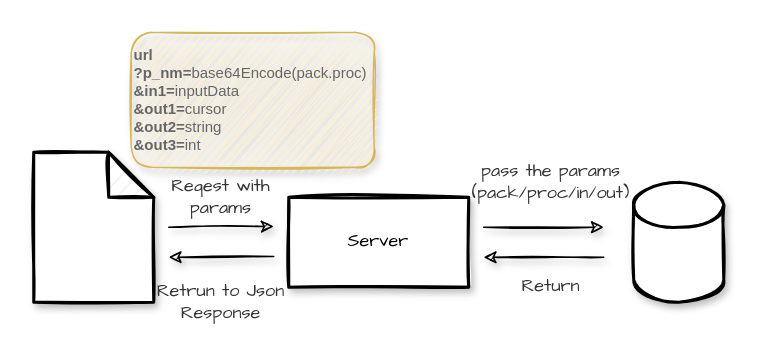
This 759x354 diagram has some shape labels left out. The centre of each missing label's shape, as x and y in pixels:
Client: point (95, 229)
Oracle: point (680, 244)
